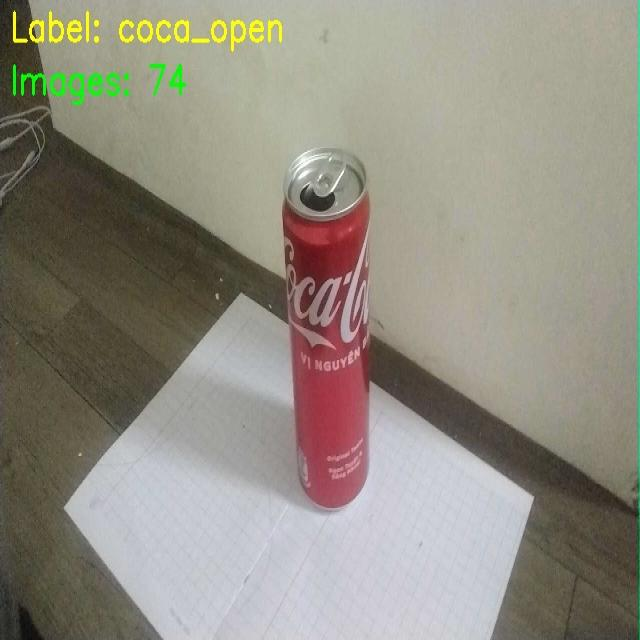Coca_open: (273, 144, 399, 506)
